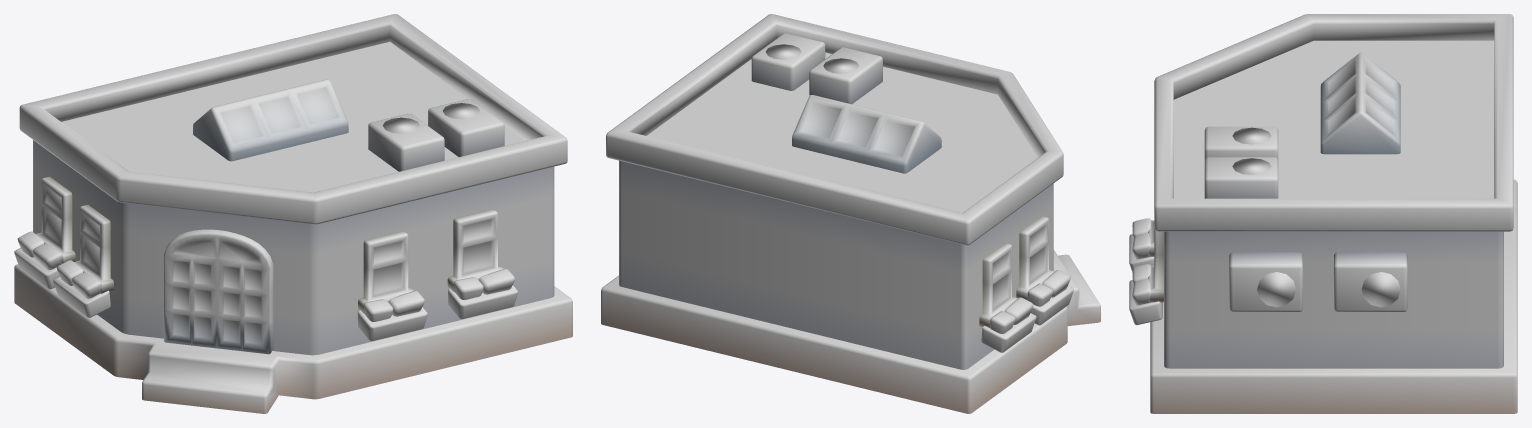
File: Building_012.fbx
3 views of the same model, side by side, from view 1: azimuth 30°, elevation 25°; view 2: azimuth 150°, elevation 25°; view 3: azimuth 270°, elevation 25° (orthographic). The views are drawn at different scales.
Visible parts, largest first — view 1: Building_012; view 2: Building_012; view 3: Building_012.
Part boxes in pixels (x1=…): Building_012: x1=14, y1=14, x2=572, y2=413; Building_012: x1=601, y1=14, x2=1100, y2=413; Building_012: x1=1129, y1=14, x2=1517, y2=413.
Bounding box in the file's own units: 1040 × 799 × 519.
